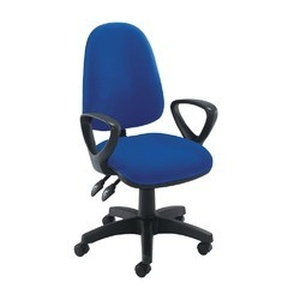chair: (74, 22, 218, 280)
